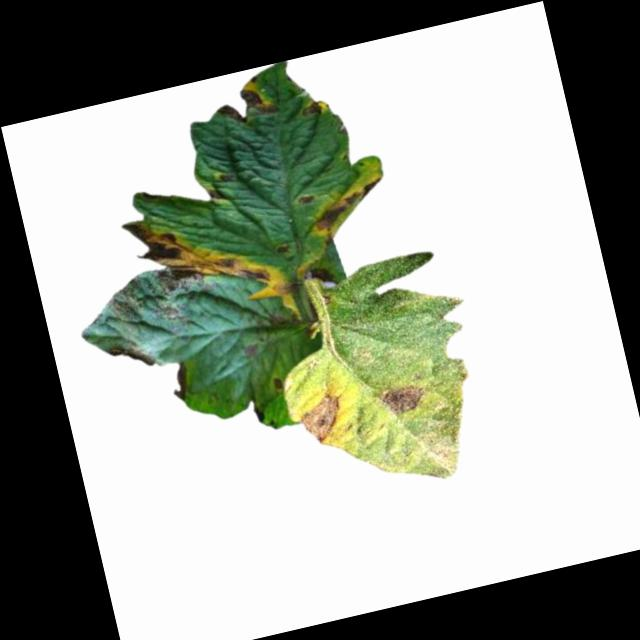Early_blight: (120, 190, 295, 329), (105, 261, 211, 337), (306, 177, 392, 235), (212, 83, 281, 133), (294, 389, 349, 447), (106, 339, 155, 376), (378, 383, 425, 418), (164, 362, 194, 402), (304, 99, 325, 120), (297, 195, 313, 208), (272, 376, 284, 391)
